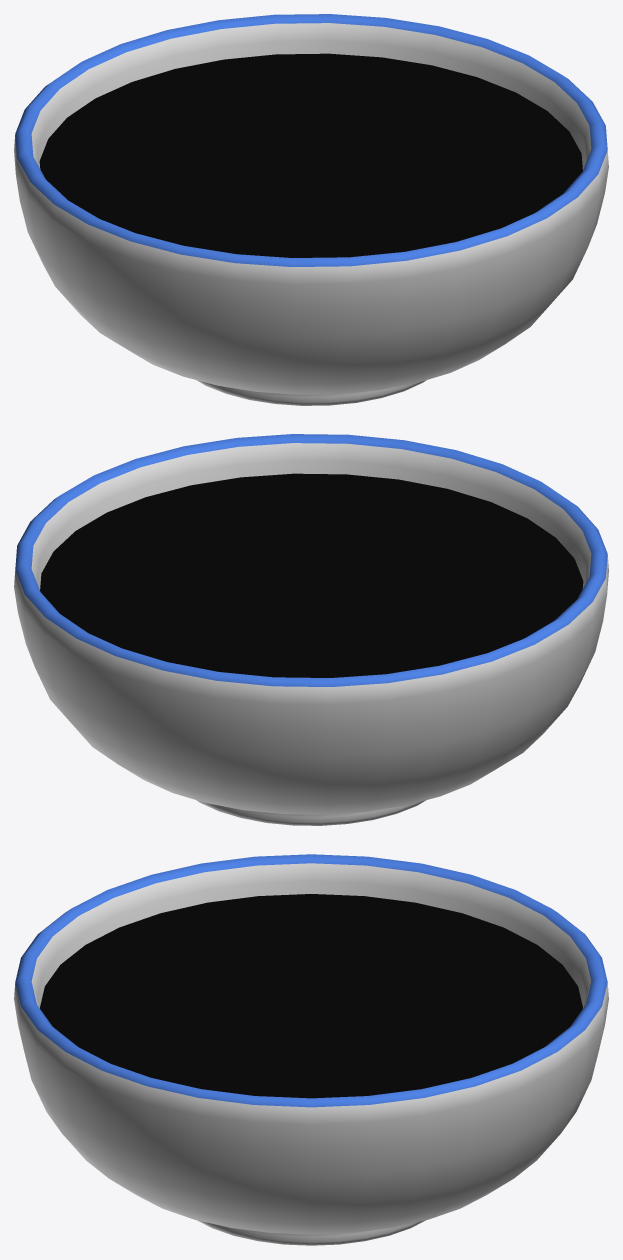
The model's file is BurntSoup.glb.
The picture shows the model from 3 angles, top to bottom: view 1: azimuth 30°, elevation 25°; view 2: azimuth 150°, elevation 25°; view 3: azimuth 270°, elevation 25°; orthographic projection.
Parts seen in each view (by area): view 1: Bowl.001; view 2: Bowl.001; view 3: Bowl.001.
Part boxes in pixels (<box>): Bowl.001: <box>14,14,608,405</box>; Bowl.001: <box>14,434,608,825</box>; Bowl.001: <box>14,854,608,1245</box>.
Bounding box in the file's own units: 0.2184 × 0.0868 × 0.2184.
